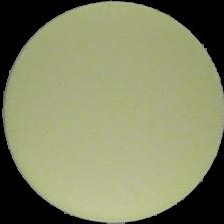21695-371: (0, 0, 224, 224)
